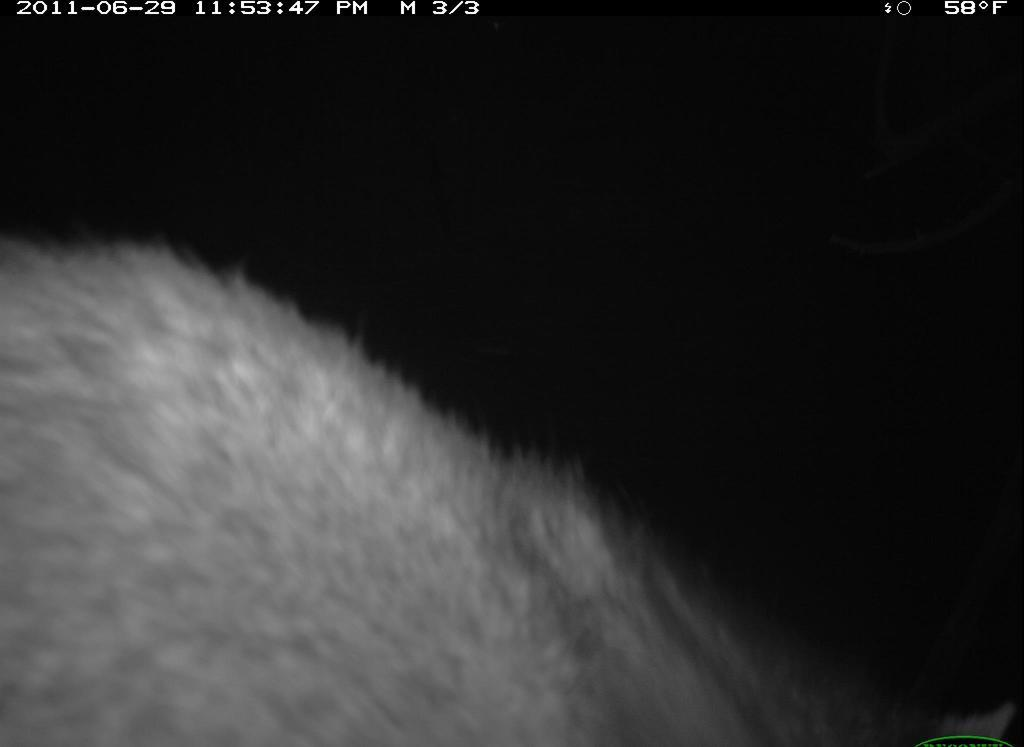raccoon: (1, 204, 1019, 747)
